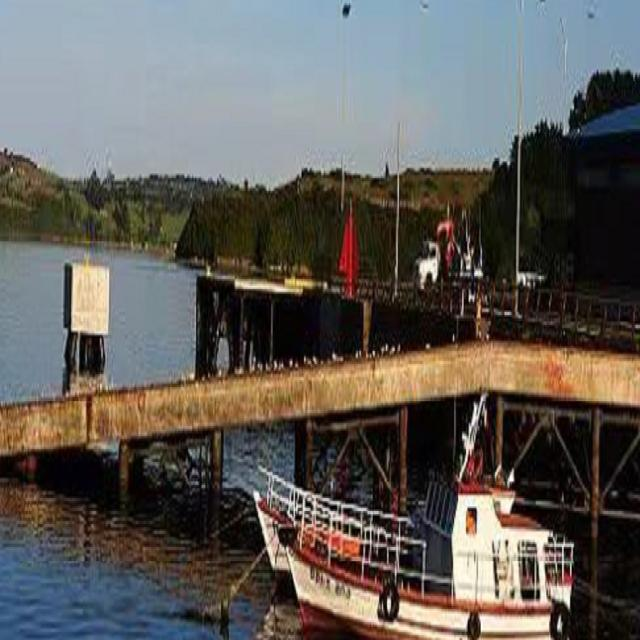houseboat: (262, 452, 578, 640)
